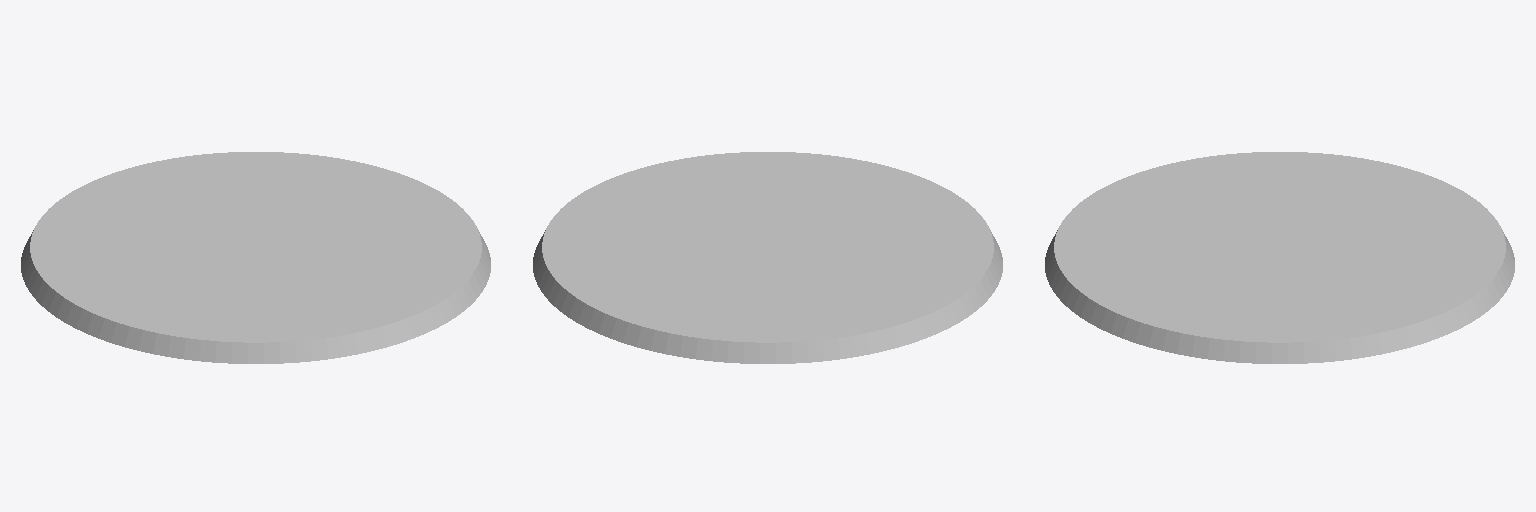
Rendered from Disc_40mm.obj.
3 renders of one model, left to right at view 1: azimuth 30°, elevation 25°; view 2: azimuth 150°, elevation 25°; view 3: azimuth 270°, elevation 25°, orthographic.
Visible parts, largest first — view 1: Cylinder_Cylinder.001; view 2: Cylinder_Cylinder.001; view 3: Cylinder_Cylinder.001.
Boxes of the visible parts, x1=… form: Cylinder_Cylinder.001: x1=21, y1=152, x2=490, y2=363; Cylinder_Cylinder.001: x1=533, y1=152, x2=1002, y2=363; Cylinder_Cylinder.001: x1=1045, y1=152, x2=1514, y2=363.
Bounding box in the file's own units: 1.49 × 0.0617 × 1.49.